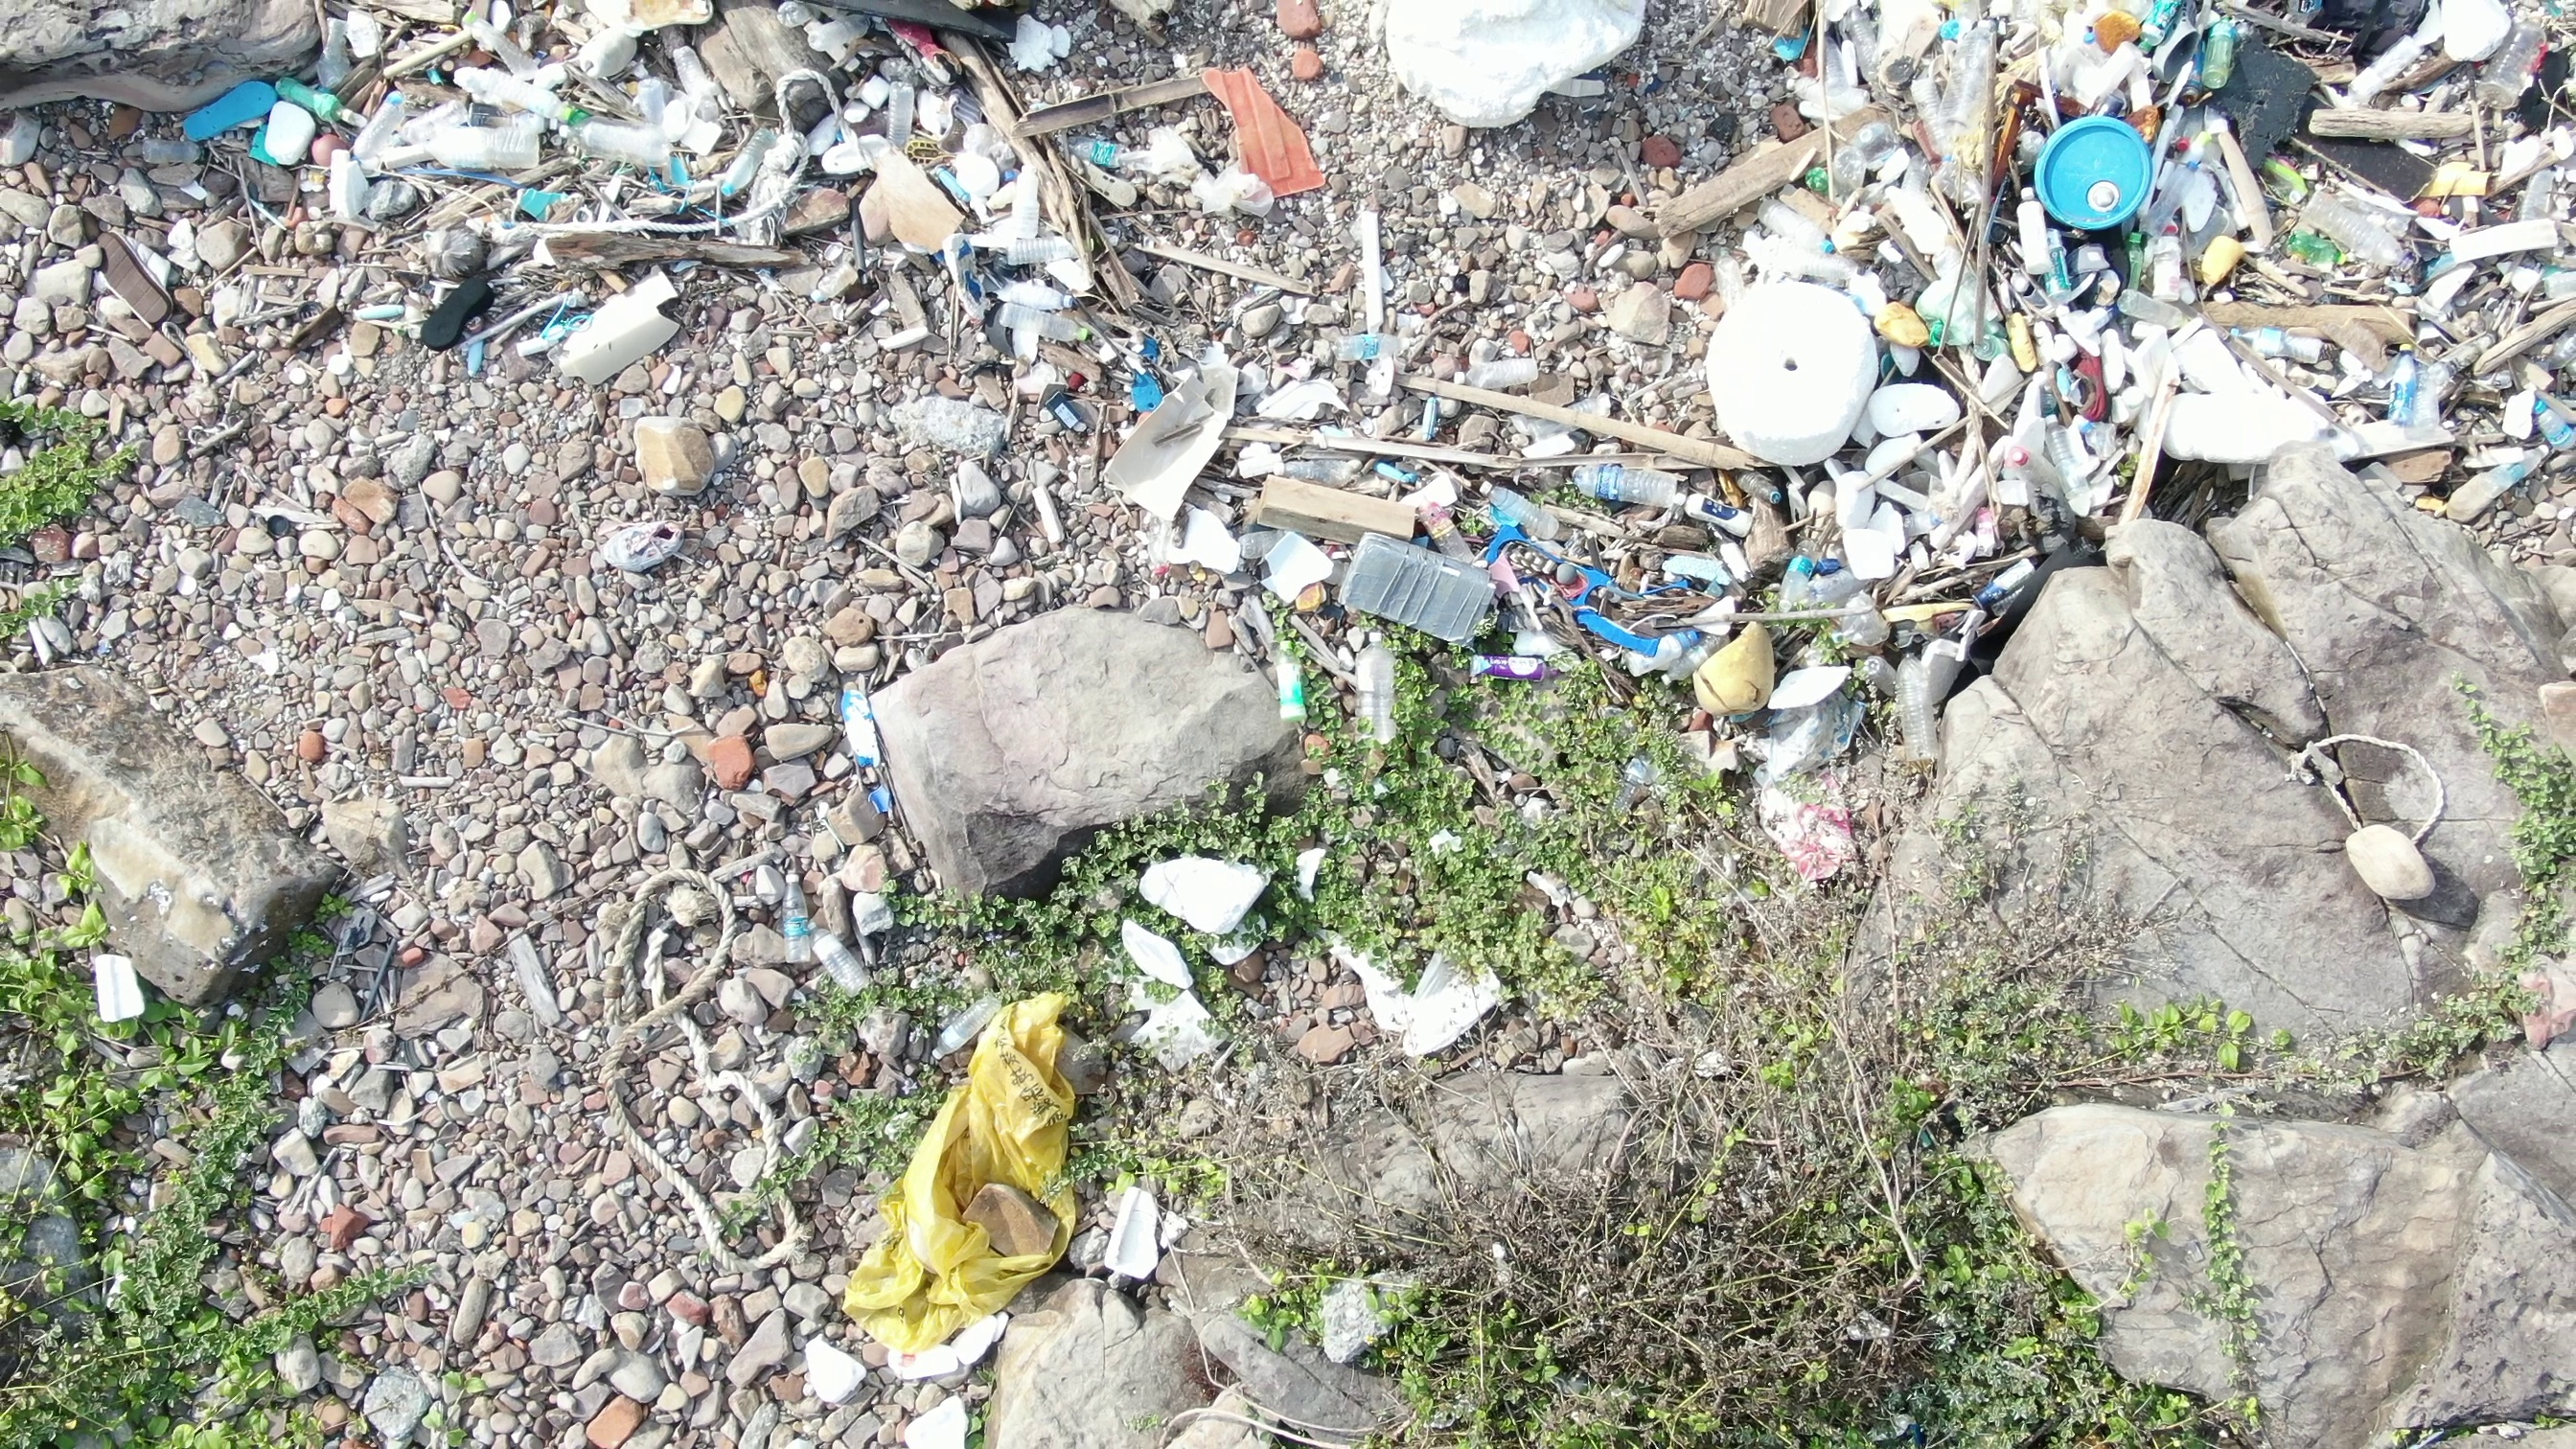bottle: (564, 97, 674, 184), (1888, 630, 1955, 768), (1345, 626, 1408, 764), (410, 119, 561, 177), (1564, 453, 1702, 513), (770, 867, 832, 982), (1270, 628, 1329, 734), (2388, 327, 2440, 432)
garbage: (177, 2, 1350, 430), (1695, 9, 2576, 527), (1104, 327, 2086, 791), (832, 968, 1106, 1371), (1118, 826, 1527, 1067), (777, 649, 892, 978), (2281, 715, 2457, 927), (1760, 798, 1868, 876)
